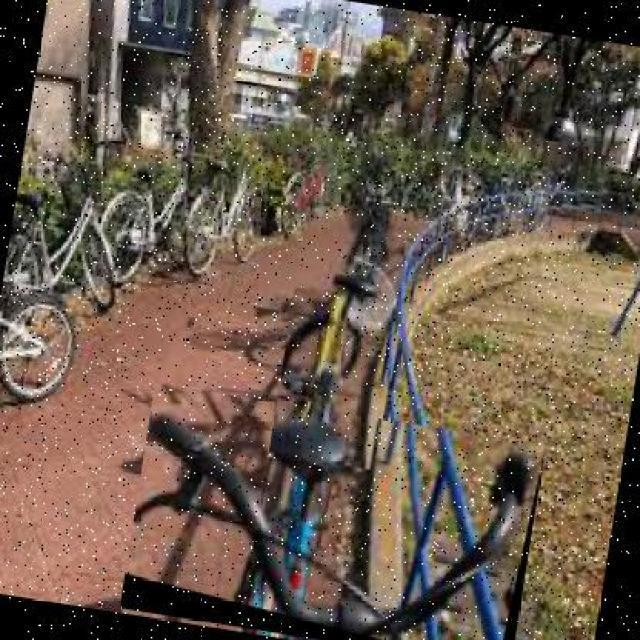bicycle: (117, 383, 546, 640), (265, 201, 411, 476)
